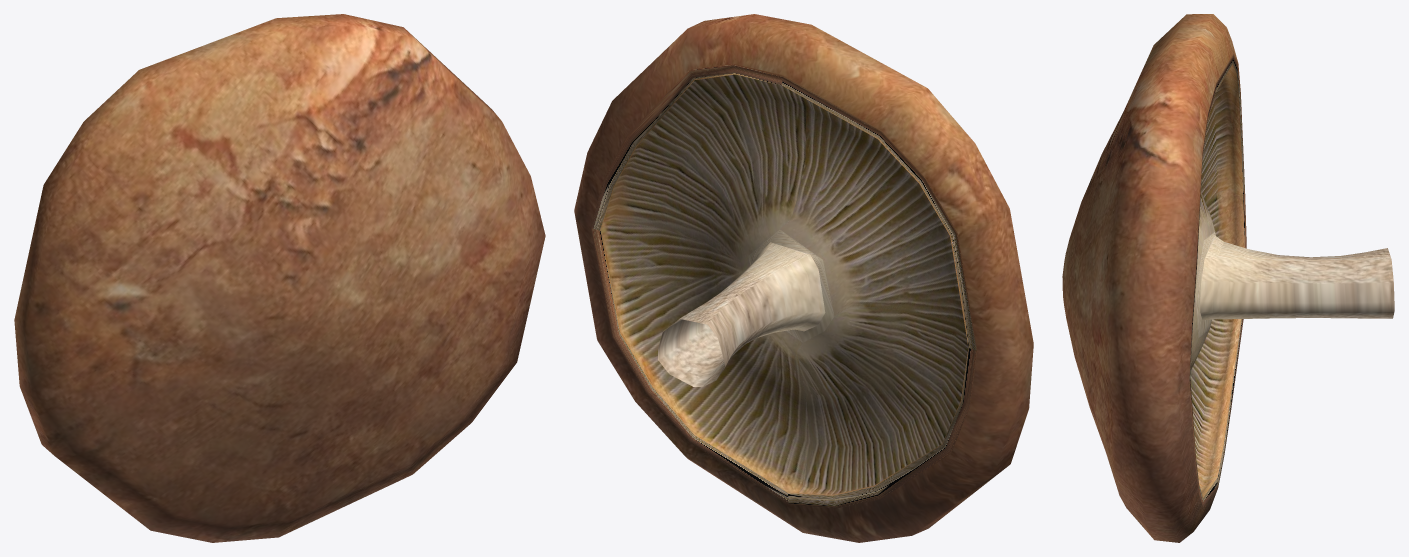
The model's file is mushroom.fbx.
3 views of the same model, side by side, from view 1: azimuth 30°, elevation 25°; view 2: azimuth 150°, elevation 25°; view 3: azimuth 270°, elevation 25° (orthographic). The views are drawn at different scales.
Visible parts, largest first — view 1: _MushroomShitake_v1_L3:Shiitake_Mesh; view 2: _MushroomShitake_v1_L3:Shiitake_Mesh; view 3: _MushroomShitake_v1_L3:Shiitake_Mesh.
Part boxes in pixels (<box>): _MushroomShitake_v1_L3:Shiitake_Mesh: <box>14,14,545,542</box>; _MushroomShitake_v1_L3:Shiitake_Mesh: <box>574,14,1033,542</box>; _MushroomShitake_v1_L3:Shiitake_Mesh: <box>1062,14,1394,542</box>.
Bounding box in the file's own units: 5.44 × 5.4 × 3.4.
